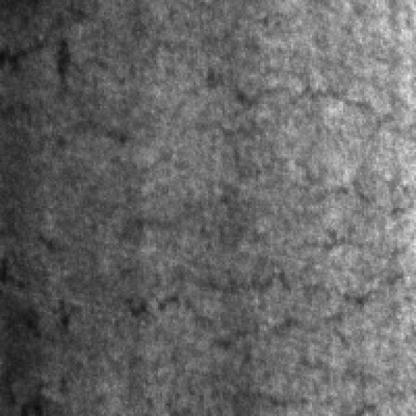crazing: (116, 61, 412, 345)
